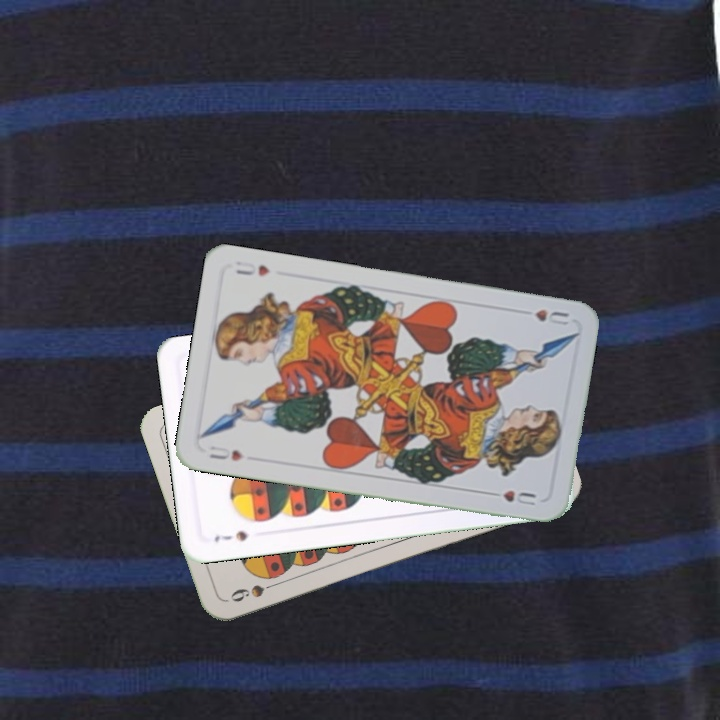HU: (531, 305, 572, 328), (205, 442, 246, 464)
S7: (210, 527, 250, 545)
S9: (226, 577, 283, 605)
